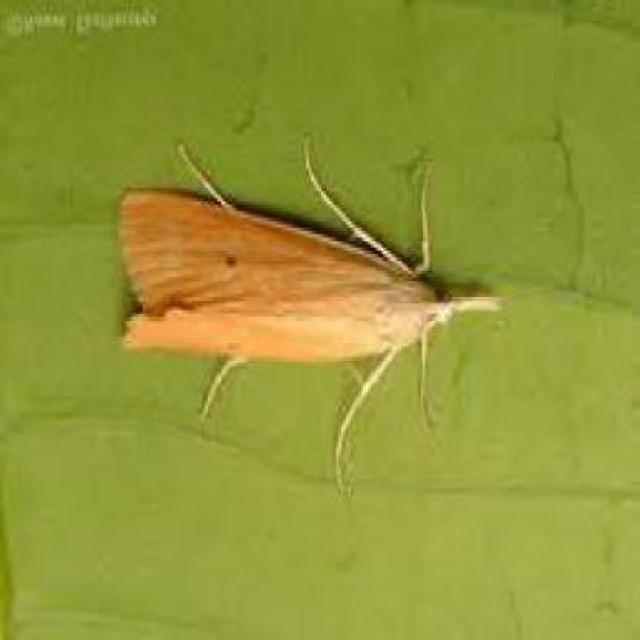stem-borer: (117, 137, 503, 480)
